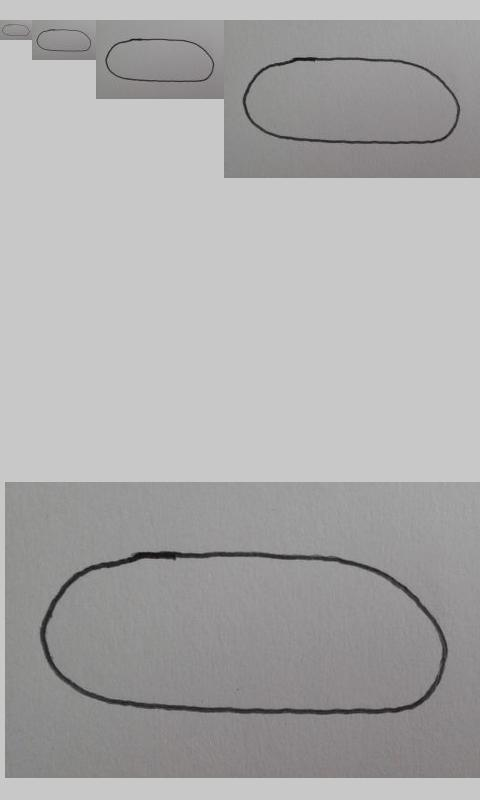chip: (40, 550, 450, 716), (242, 56, 461, 145), (105, 38, 215, 83), (36, 28, 92, 53), (2, 23, 30, 37)
